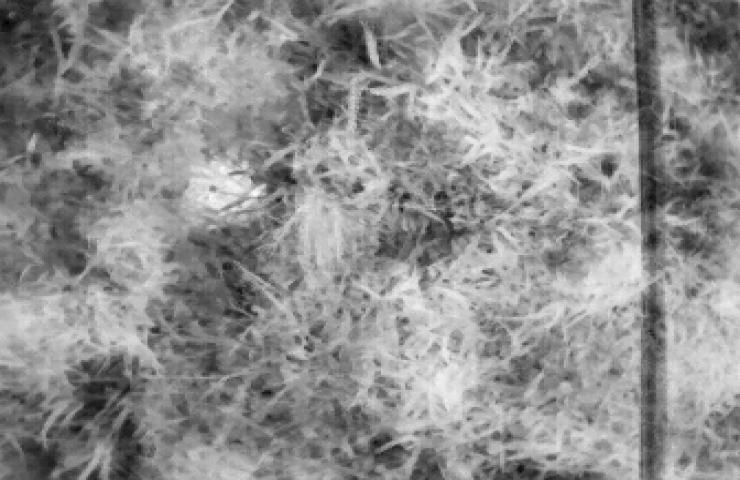landmines: (185, 157, 257, 211)
